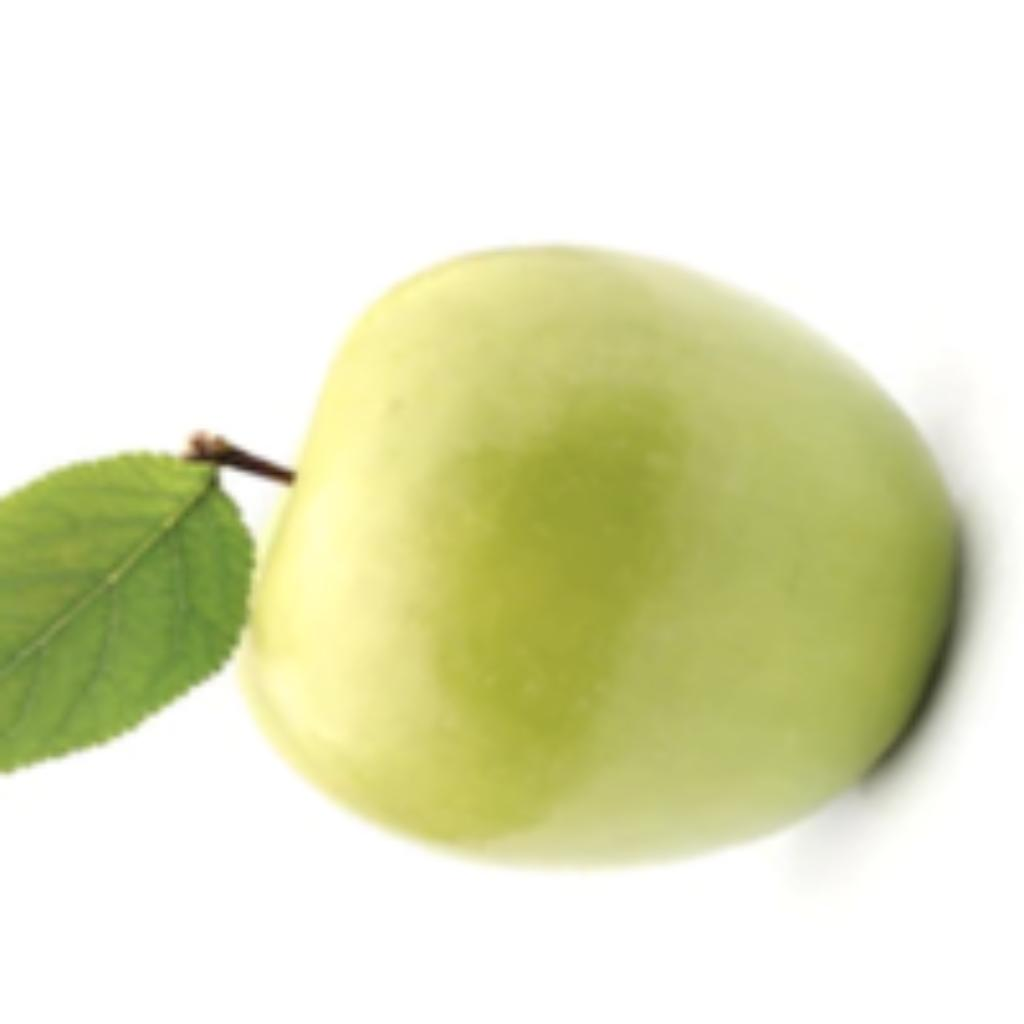apple: (0, 236, 1014, 876)
